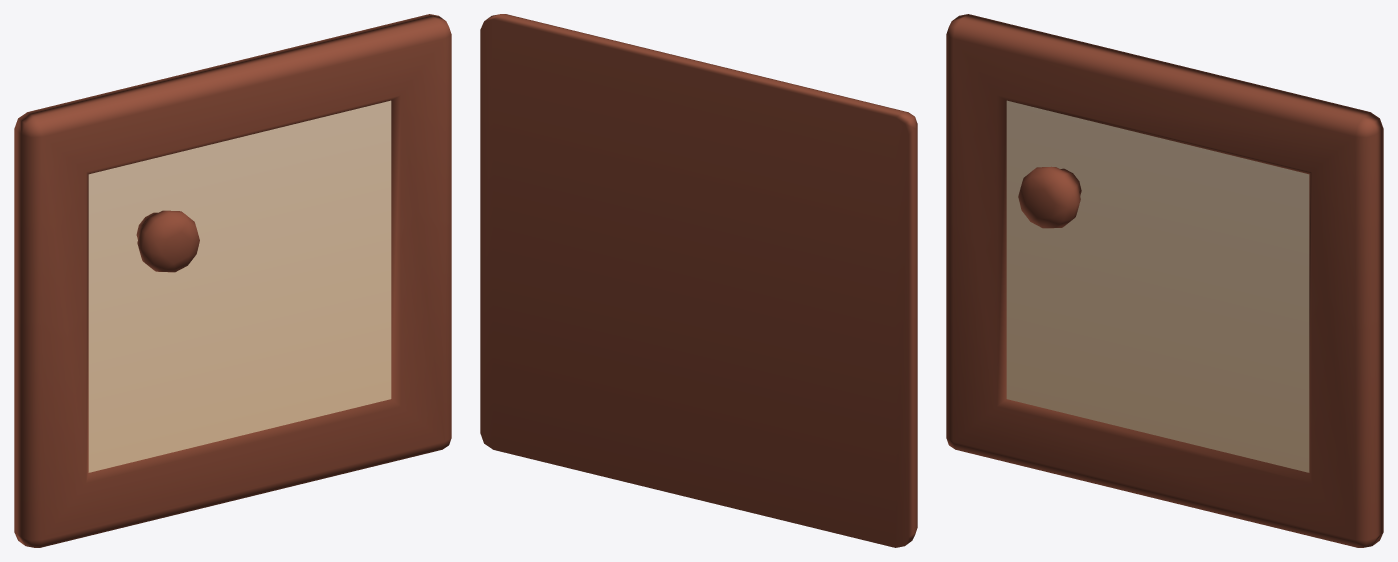
The model's file is Cabinet_001_door_002.fbx.
3 renders of one model, left to right at view 1: azimuth 30°, elevation 25°; view 2: azimuth 150°, elevation 25°; view 3: azimuth 330°, elevation 25°, orthographic.
Parts seen in each view (by area): view 1: Cabinet_001_door_002; view 2: Cabinet_001_door_002; view 3: Cabinet_001_door_002.
Part boxes in pixels (left/top/right/bottom): Cabinet_001_door_002: left=14, top=14, right=451, bottom=547; Cabinet_001_door_002: left=480, top=14, right=917, bottom=547; Cabinet_001_door_002: left=946, top=14, right=1383, bottom=547.
Size of the model in its own units: 49 by 7.98 by 47.03.
